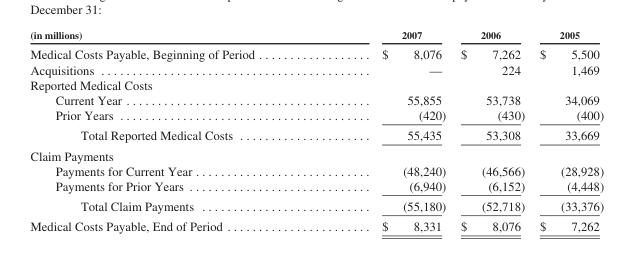table: (29, 28, 603, 232)
table column: (29, 28, 317, 232), (317, 28, 452, 232), (452, 28, 531, 232), (531, 28, 603, 232)
table column header: (29, 28, 603, 43)
table projected row header: (29, 145, 603, 162), (29, 76, 603, 92)
table row: (29, 124, 603, 145), (29, 195, 603, 215), (29, 43, 603, 61), (29, 177, 603, 195), (29, 107, 603, 124), (29, 145, 603, 162), (29, 215, 603, 232), (29, 76, 603, 92), (29, 28, 603, 43), (29, 61, 603, 76), (29, 92, 603, 107), (29, 162, 603, 177)
